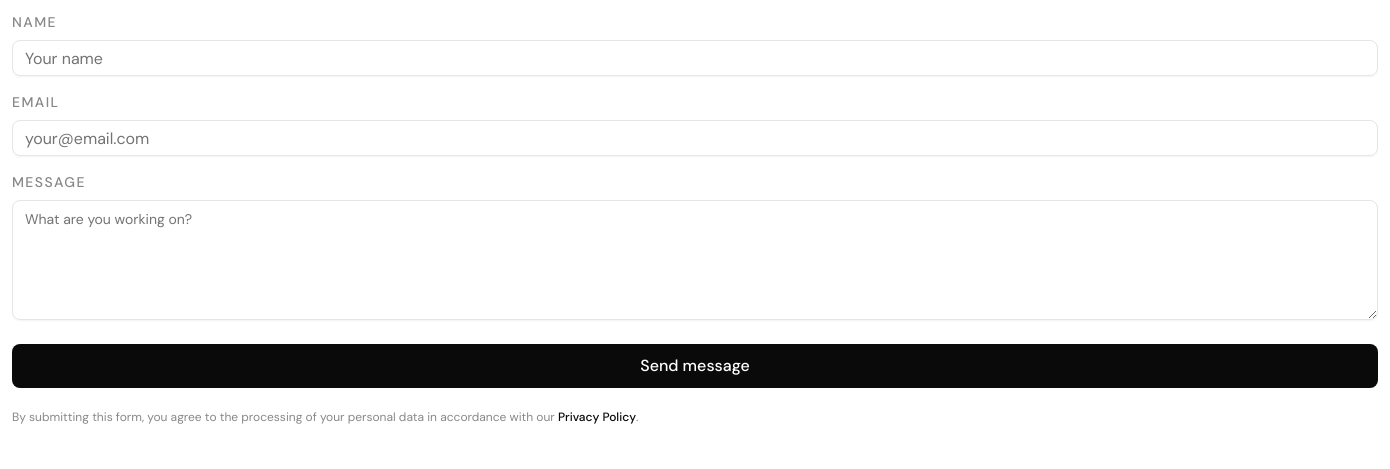
Test case: ContactForm › shows email validation error for invalid email
Type "Keighley" into the field with placeholder "Your name".
click(695, 58); type("Keighley")  # box top-left (12, 40), bottom-right (1378, 76)
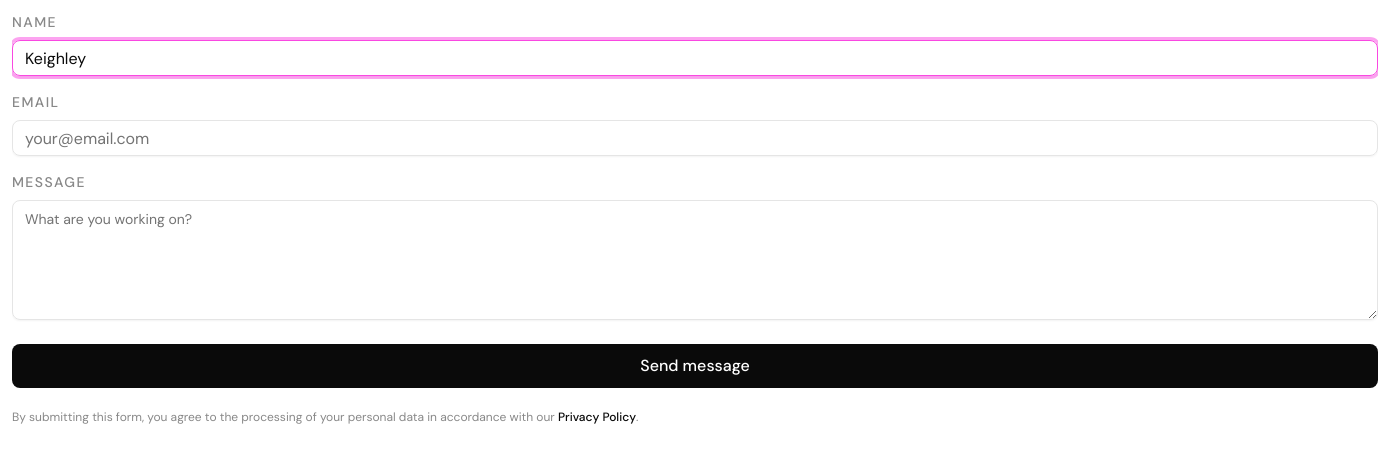
Type "notanemail" into the field with placeholder "your@email.com".
click(695, 138); type("notanemail")  # box top-left (12, 120), bottom-right (1378, 156)
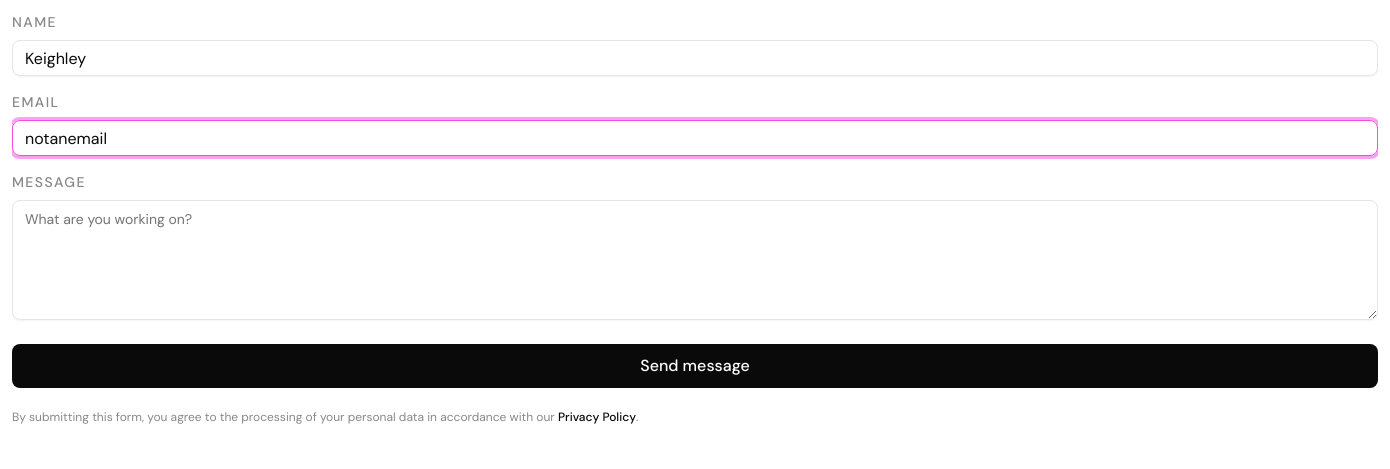
Type "Hello there this is a message" into the text box with placeholder "What are you working on?".
click(695, 260); type("Hello there this is a message")  # box top-left (12, 200), bottom-right (1378, 320)
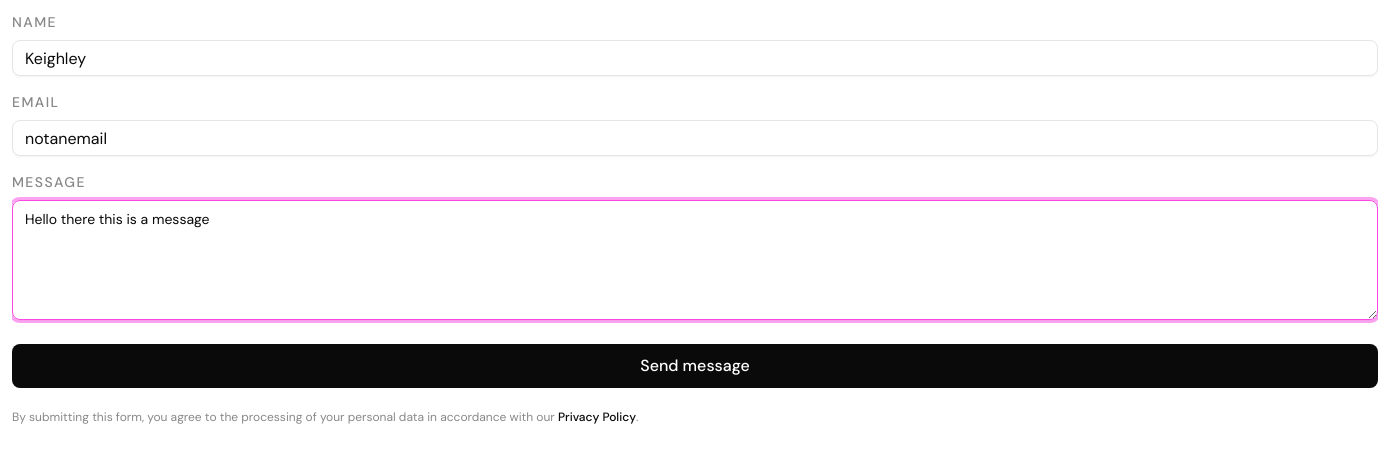
Click the button "Send message".
click(695, 366)  # box top-left (12, 344), bottom-right (1378, 388)
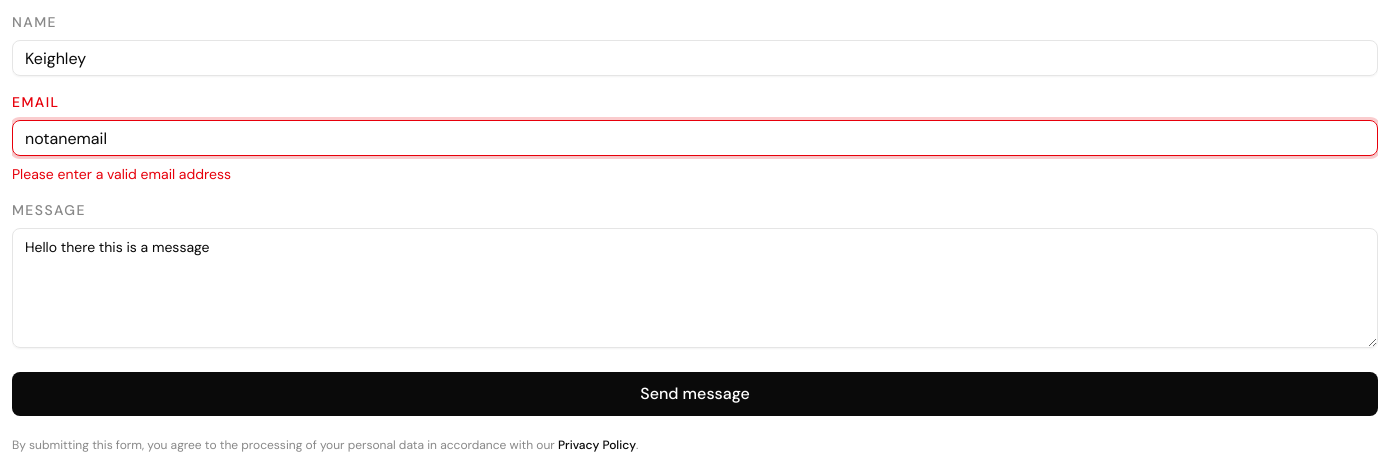
Result: the text "Please enter a valid email address" is shown at top-left (12, 165), bottom-right (231, 183)
